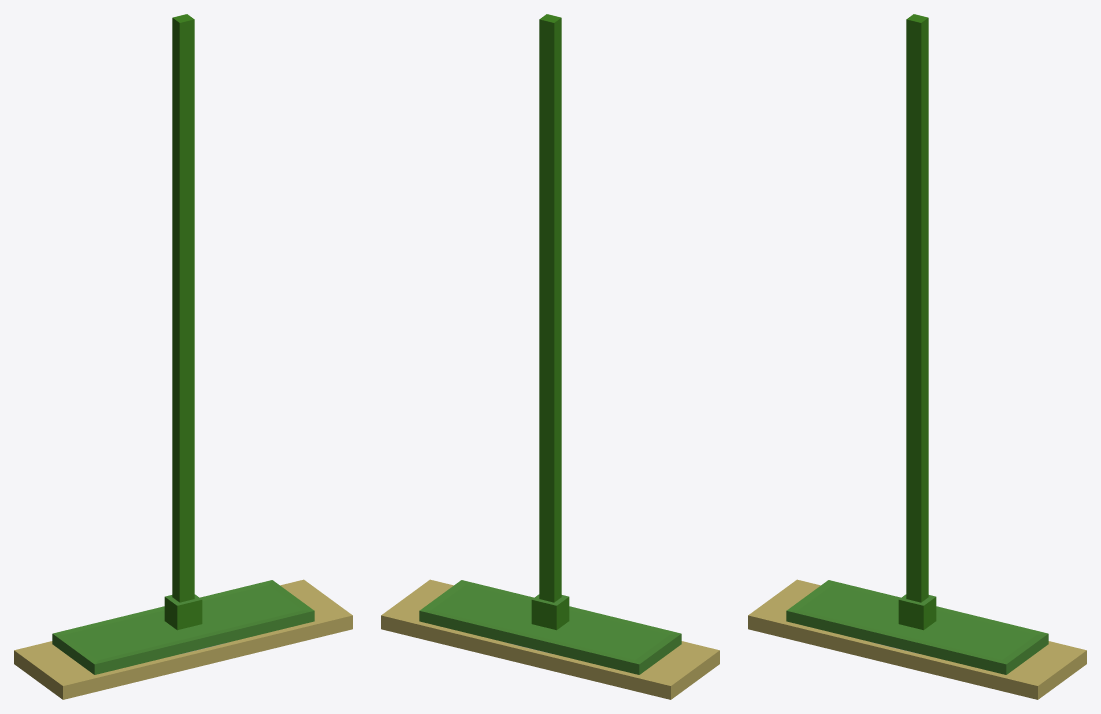
File: Bezem.fbx
3 renders of one model, left to right at view 1: azimuth 30°, elevation 25°; view 2: azimuth 150°, elevation 25°; view 3: azimuth 330°, elevation 25°, orthographic.
Parts seen in each view (by area): view 1: Dwijl; view 2: Dwijl; view 3: Dwijl.
Part boxes in pixels (bbox=[...]): Dwijl: bbox=[14, 14, 352, 699]; Dwijl: bbox=[381, 14, 719, 699]; Dwijl: bbox=[748, 14, 1086, 699].
Bounding box in the file's own units: 4.11 × 8.52 × 1.2.
